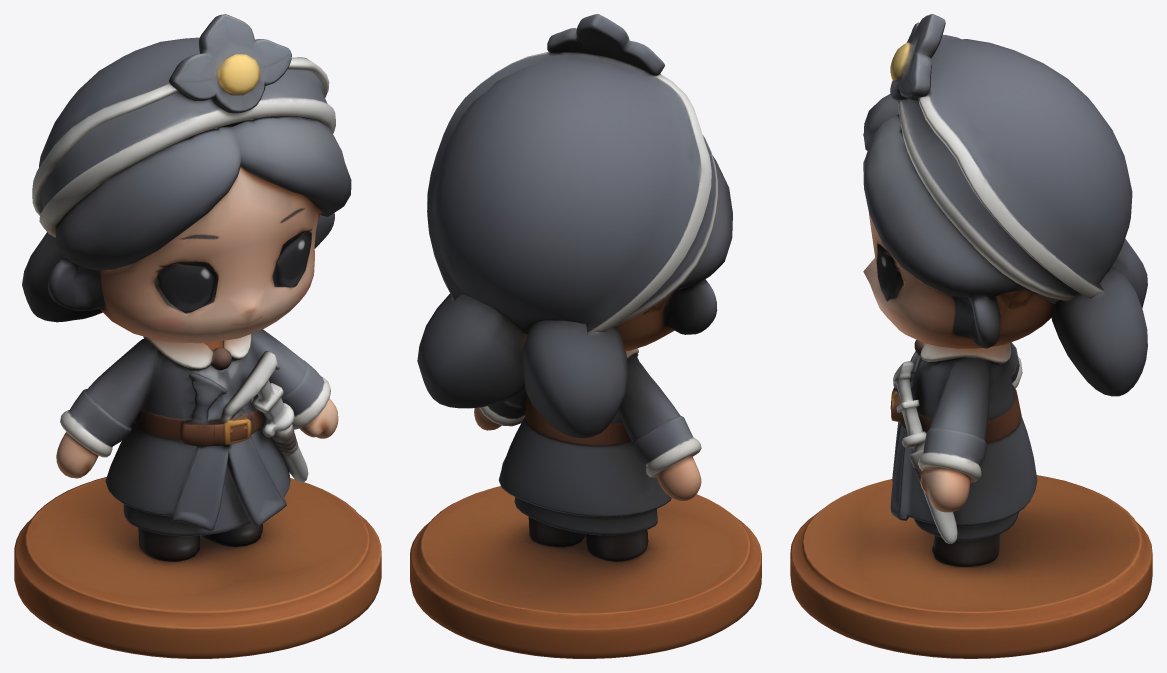
Rendered from malay-queen.glb.
3 views of the same model, side by side, from view 1: azimuth 30°, elevation 25°; view 2: azimuth 150°, elevation 25°; view 3: azimuth 270°, elevation 25° (orthographic). The views are drawn at different scales.
Parts seen in each view (by area): view 1: f4a82c48_15ea_4ef1_bc4c_63bab516243d; view 2: f4a82c48_15ea_4ef1_bc4c_63bab516243d; view 3: f4a82c48_15ea_4ef1_bc4c_63bab516243d.
Part boxes in pixels (x1=…): f4a82c48_15ea_4ef1_bc4c_63bab516243d: x1=14, y1=14, x2=381, y2=658; f4a82c48_15ea_4ef1_bc4c_63bab516243d: x1=410, y1=14, x2=761, y2=658; f4a82c48_15ea_4ef1_bc4c_63bab516243d: x1=790, y1=14, x2=1152, y2=658.
Bounding box in the file's own units: 0.5728 × 0.9995 × 0.5728.
1 material, 1 textured.
